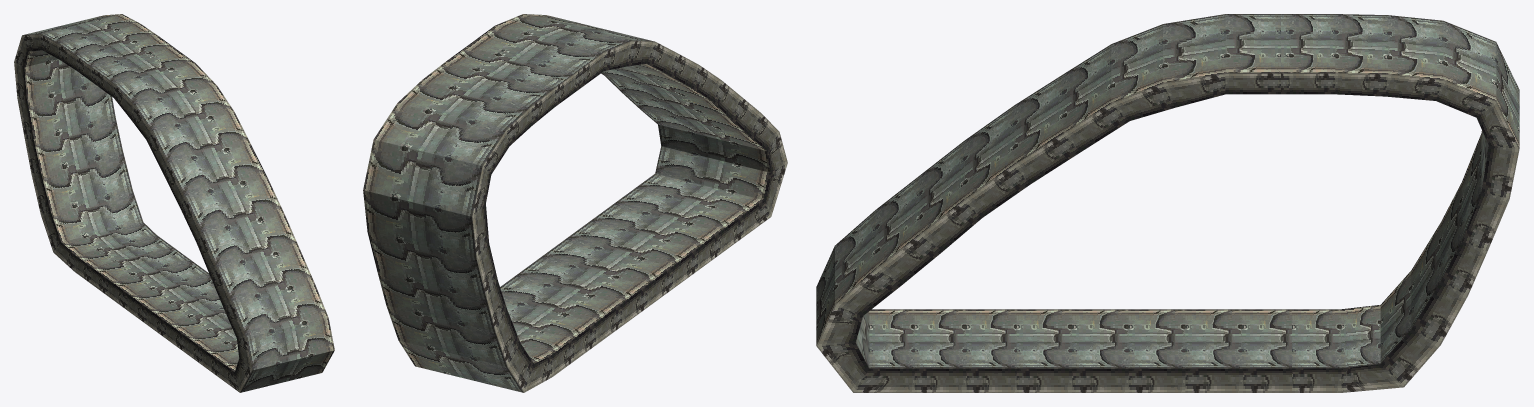
The model's file is VXAAH_TRAC_R.obj.
3 views of the same model, side by side, from view 1: azimuth 30°, elevation 25°; view 2: azimuth 150°, elevation 25°; view 3: azimuth 270°, elevation 25° (orthographic). The views are drawn at different scales.
Visible parts, largest first — view 1: Node 0; view 2: Node 0; view 3: Node 0.
Part boxes in pixels (x1=…): Node 0: x1=14, y1=14, x2=334, y2=392; Node 0: x1=363, y1=14, x2=787, y2=392; Node 0: x1=816, y1=14, x2=1519, y2=392.
Size of the model in its own units: 1.14 by 2.87 by 5.72.
1 material, 1 textured.
